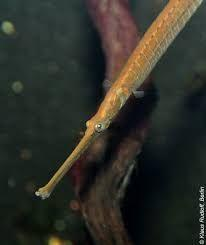Long-Snouted Pipefish: (35, 0, 206, 207)
